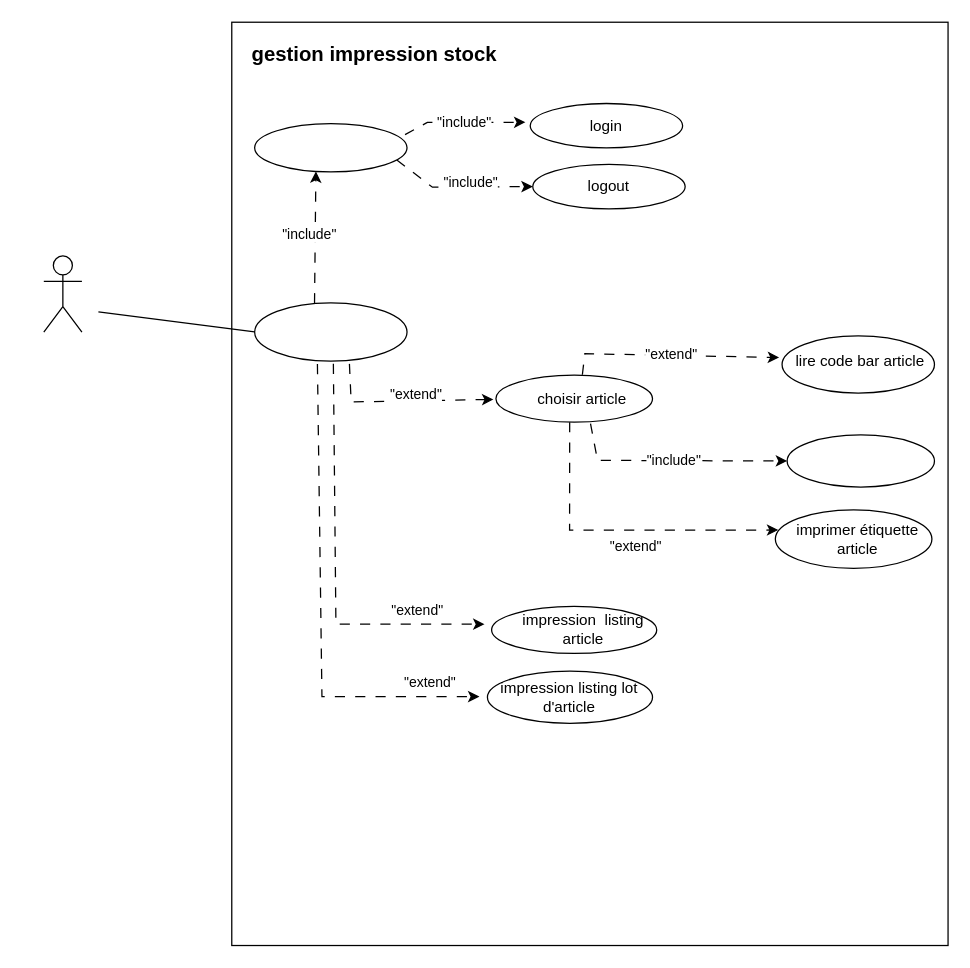
Image size: 970x968. Some labels were removed from this diagram. The shapes that lost their labels are listed below. From the top down, each one's centre as x and y in pixels, then its label:
At (330,147): "authentifier".
At (62,293): "responsable".
At (330,331): "gérer les impressions".
At (860,460): "afficher article".
